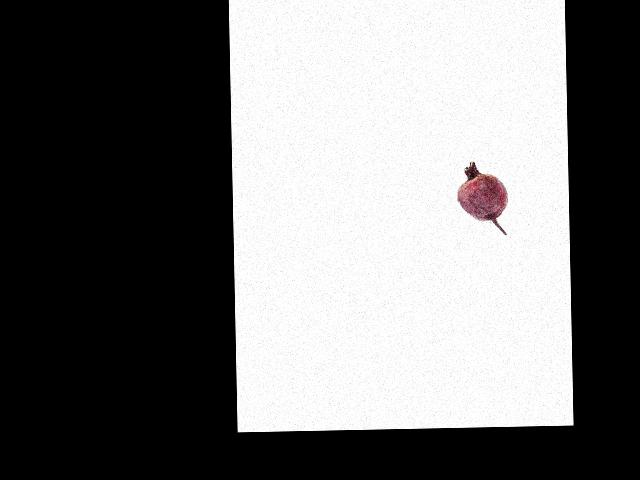beet: (456, 160, 509, 235)
